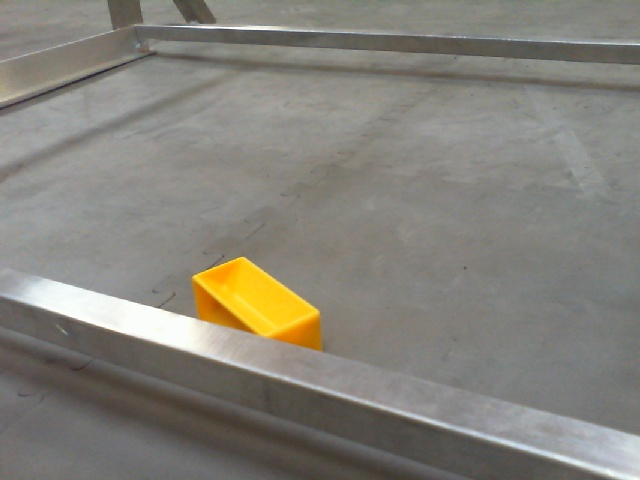YellowSample: (188, 254, 325, 348)
